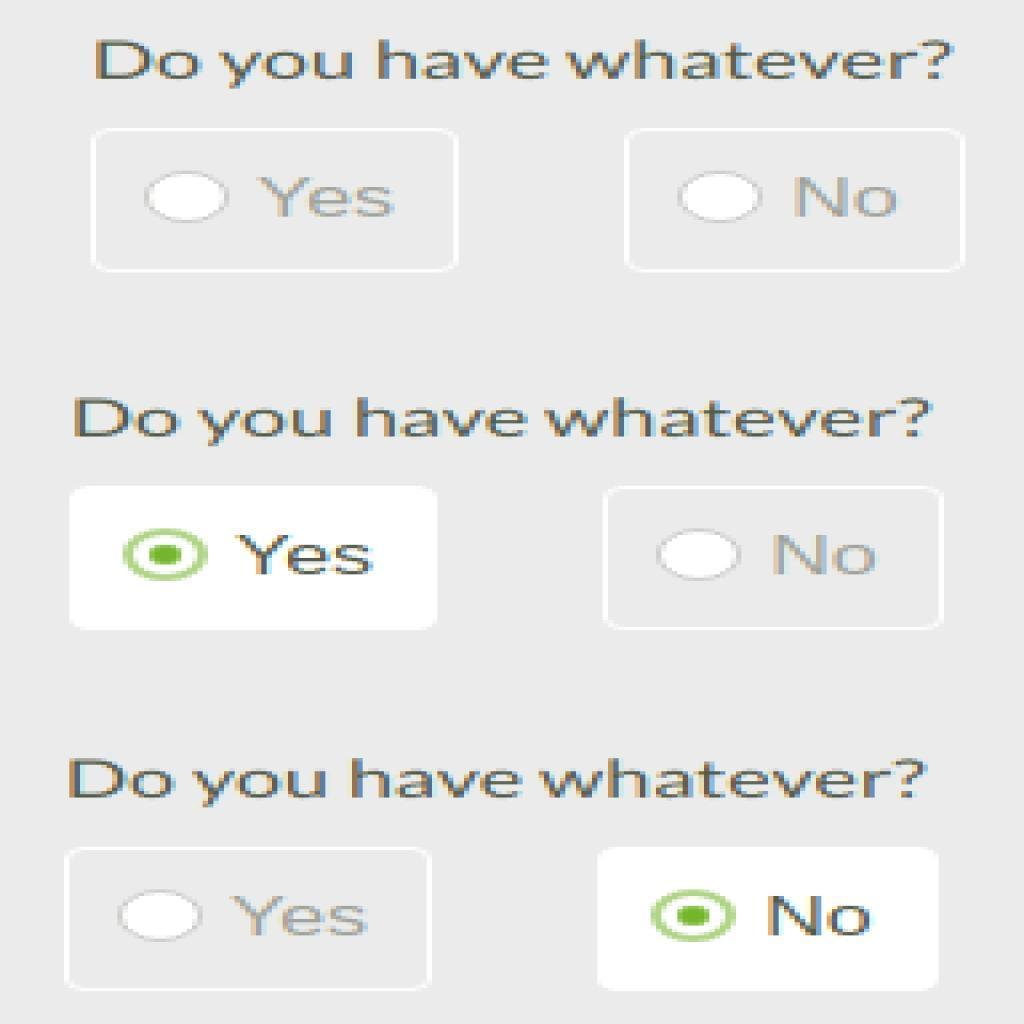label: (84, 15, 955, 94), (63, 385, 947, 460), (65, 754, 933, 816), (225, 884, 372, 950), (242, 527, 387, 586), (254, 174, 399, 231), (760, 885, 883, 950), (771, 527, 891, 591), (792, 172, 904, 225)
radio: (653, 519, 748, 588), (143, 161, 232, 232), (114, 883, 211, 947), (126, 521, 218, 585), (681, 166, 763, 229), (654, 887, 738, 947)
